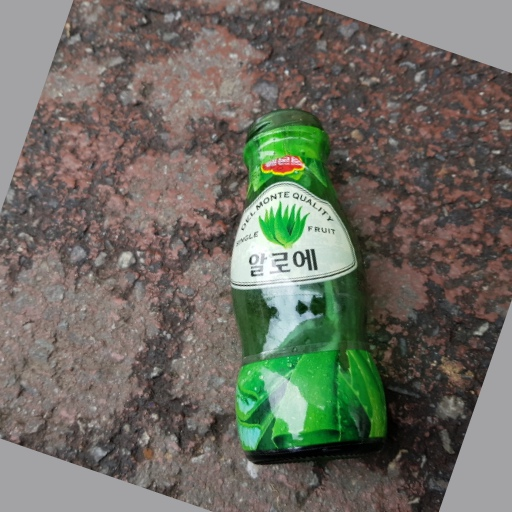Glass_4: (223, 106, 394, 467)
